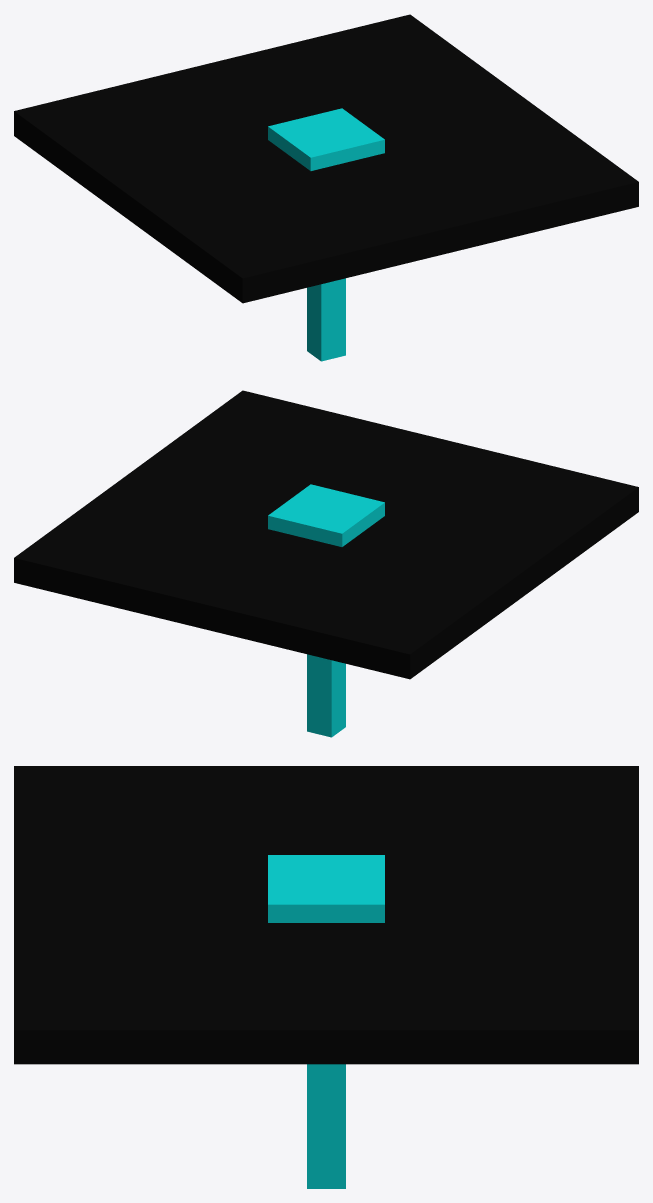
Rendered from BigStrut_P_P_E_E_P_P_E_E_None.fbx.
The picture shows the model from 3 angles, top to bottom: view 1: azimuth 30°, elevation 25°; view 2: azimuth 150°, elevation 25°; view 3: azimuth 270°, elevation 25°; orthographic projection. The views are drawn at different scales.
Visible parts, largest first — view 1: BigStrut_P_P_E_E_P_P_E_E_None; view 2: BigStrut_P_P_E_E_P_P_E_E_None; view 3: BigStrut_P_P_E_E_P_P_E_E_None.
Boxes of the visible parts, x1,y1,x2,y2 form: BigStrut_P_P_E_E_P_P_E_E_None: (14,14,638,361); BigStrut_P_P_E_E_P_P_E_E_None: (14,390,638,737); BigStrut_P_P_E_E_P_P_E_E_None: (14,766,638,1188).
Size of the model in its own units: 100 by 53.12 by 100.
